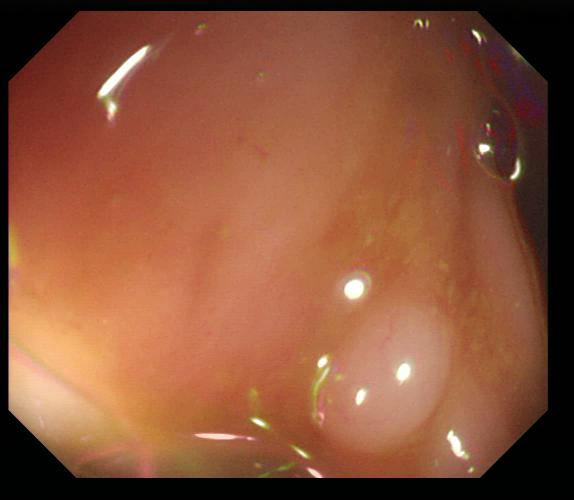polyp: (321, 302, 454, 453)
